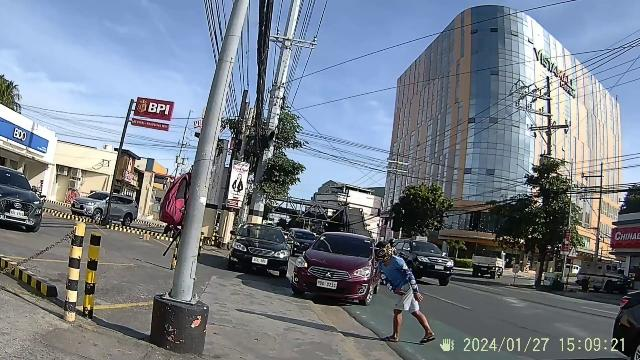car: (300, 227, 372, 299), (232, 216, 286, 276)
utility_post: (151, 123, 217, 356), (514, 72, 570, 176)
